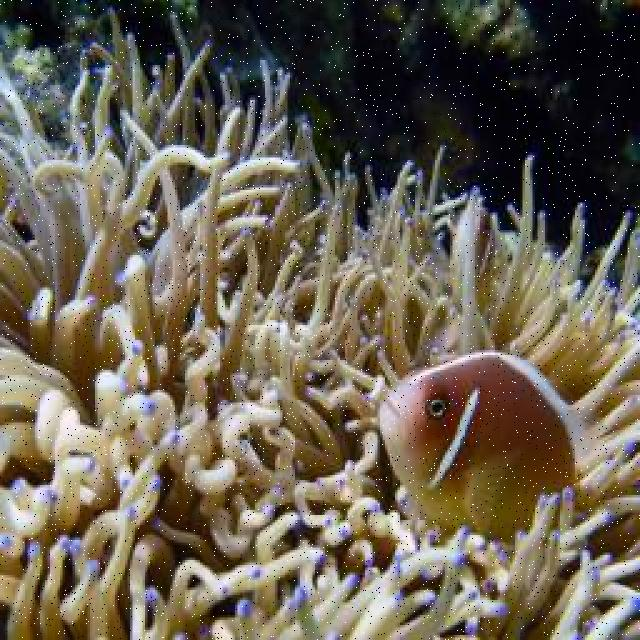fish: (376, 350, 588, 550)
reefs: (0, 2, 638, 638)
